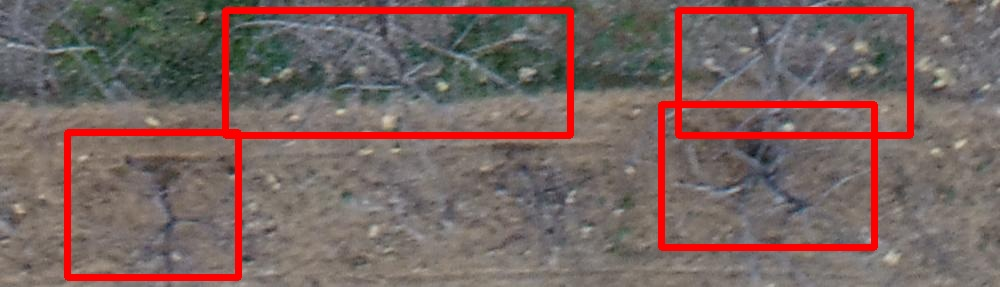apple: (225, 10, 570, 135), (661, 104, 874, 247), (678, 10, 910, 135), (67, 132, 238, 277)
